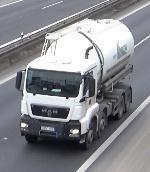truck: (17, 21, 140, 150)
